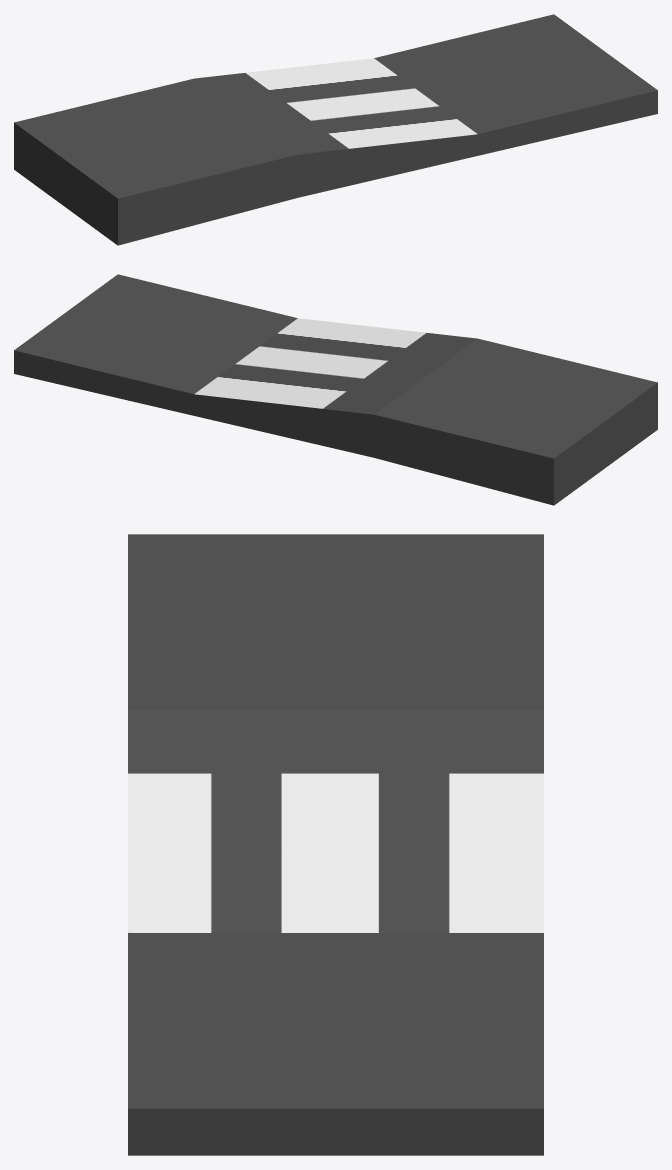
Rendered from asfaltoentradadrive.fbx.
3 views of the same model, one above another, from view 1: azimuth 30°, elevation 25°; view 2: azimuth 150°, elevation 25°; view 3: azimuth 270°, elevation 25° (orthographic). The views are drawn at different scales.
Parts seen in each view (by area): view 1: entrada drive; view 2: entrada drive; view 3: entrada drive.
Boxes of the visible parts, x1=… form: entrada drive: x1=14, y1=14, x2=657, y2=245; entrada drive: x1=14, y1=274, x2=657, y2=505; entrada drive: x1=128, y1=534, x2=543, y2=1155.
Bounding box in the file's own units: 12 × 4 × 1.
Materials: 1 (1 with a texture image).
